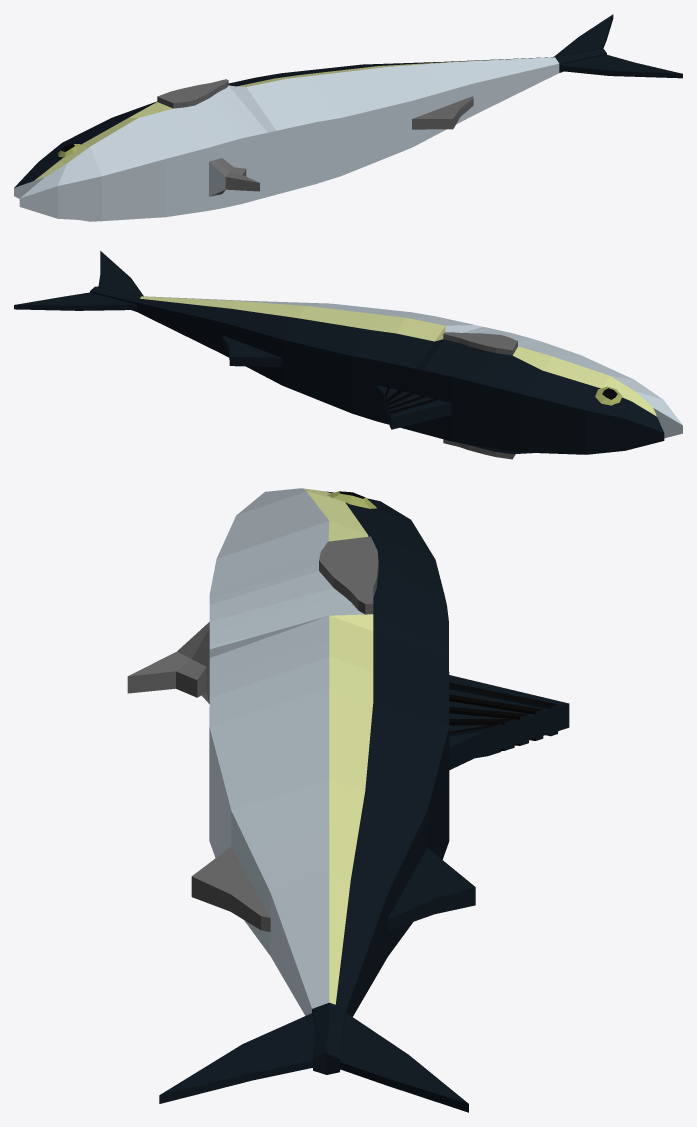
Rendered from Mackerel.fbx.
3 views of the same model, one above another, from view 1: azimuth 30°, elevation 25°; view 2: azimuth 150°, elevation 25°; view 3: azimuth 270°, elevation 25° (orthographic). The views are drawn at different scales.
Parts seen in each view (by area): view 1: Mackerel; view 2: Mackerel; view 3: Mackerel.
Boxes of the visible parts, left/top/right/bottom form: Mackerel: left=14, top=14, right=682, bottom=221; Mackerel: left=14, top=251, right=682, bottom=459; Mackerel: left=127, top=488, right=569, bottom=1112.
Bounding box in the file's own units: 156 × 25.89 × 47.5.
